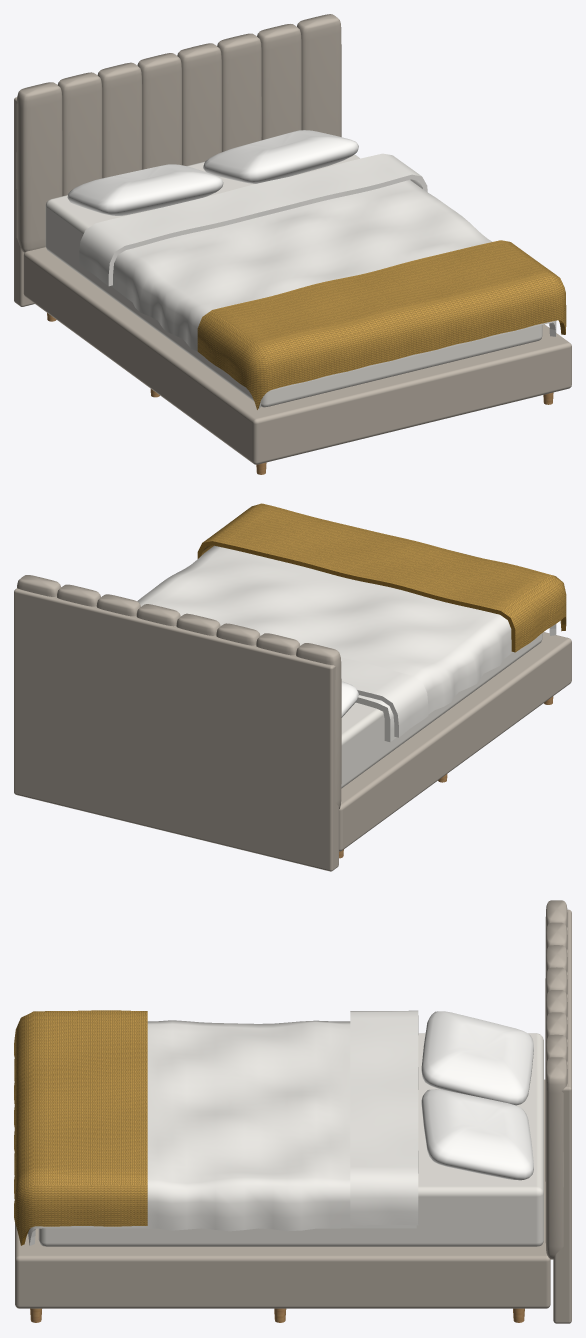
File: bed_queen.glb
3 renders of one model, top to bottom at view 1: azimuth 30°, elevation 25°; view 2: azimuth 150°, elevation 25°; view 3: azimuth 270°, elevation 25°, orthographic. The views are drawn at different scales.
Parts seen in each view (by area): view 1: bed_queen_headboard_channels, bed_queen_frame, bed_queen_throw, bed_queen_duvet, bed_queen_duvet_fold, bed_queen_mattress, bed_queen_pillow_r, bed_queen_pillow_l, bed_queen_headboard; view 2: bed_queen_headboard, bed_queen_duvet, bed_queen_throw, bed_queen_frame, bed_queen_headboard_channels, bed_queen_mattress, bed_queen_duvet_fold; view 3: bed_queen_duvet, bed_queen_frame, bed_queen_throw, bed_queen_mattress, bed_queen_duvet_fold, bed_queen_pillow_l, bed_queen_pillow_r, bed_queen_headboard_channels, bed_queen_headboard.
Boxes of the visible parts, box(x1,y1,x2,y2) form: bed_queen_headboard_channels: box(16, 14, 341, 252); bed_queen_frame: box(23, 247, 571, 464); bed_queen_throw: box(197, 240, 566, 409); bed_queen_duvet: box(111, 180, 556, 408); bed_queen_duvet_fold: box(79, 153, 427, 286); bed_queen_mattress: box(45, 154, 542, 407); bed_queen_pillow_r: box(203, 130, 358, 183); bed_queen_pillow_l: box(67, 164, 223, 215); bed_queen_headboard: box(14, 97, 34, 306); bed_queen_headboard: box(14, 588, 338, 871); bed_queen_duvet: box(137, 545, 556, 741); bed_queen_throw: box(197, 503, 566, 652); bed_queen_frame: box(339, 632, 571, 851); bed_queen_headboard_channels: box(17, 575, 341, 808); bed_queen_mattress: box(341, 633, 542, 788); bed_queen_duvet_fold: box(341, 657, 428, 737); bed_queen_duvet: box(28, 1020, 416, 1245); bed_queen_frame: box(15, 1079, 550, 1308); bed_queen_throw: box(14, 1010, 147, 1245); bed_queen_mattress: box(38, 1033, 543, 1246); bed_queen_duvet_fold: box(350, 1010, 418, 1225); bed_queen_pillow_l: box(421, 1011, 533, 1105); bed_queen_pillow_r: box(421, 1089, 533, 1180); bed_queen_headboard_channels: box(545, 900, 567, 1259); bed_queen_headboard: box(553, 909, 571, 1323).
Size of the model in its own units: 1.61 by 1.05 by 2.1.
6 materials, 2 textured.
